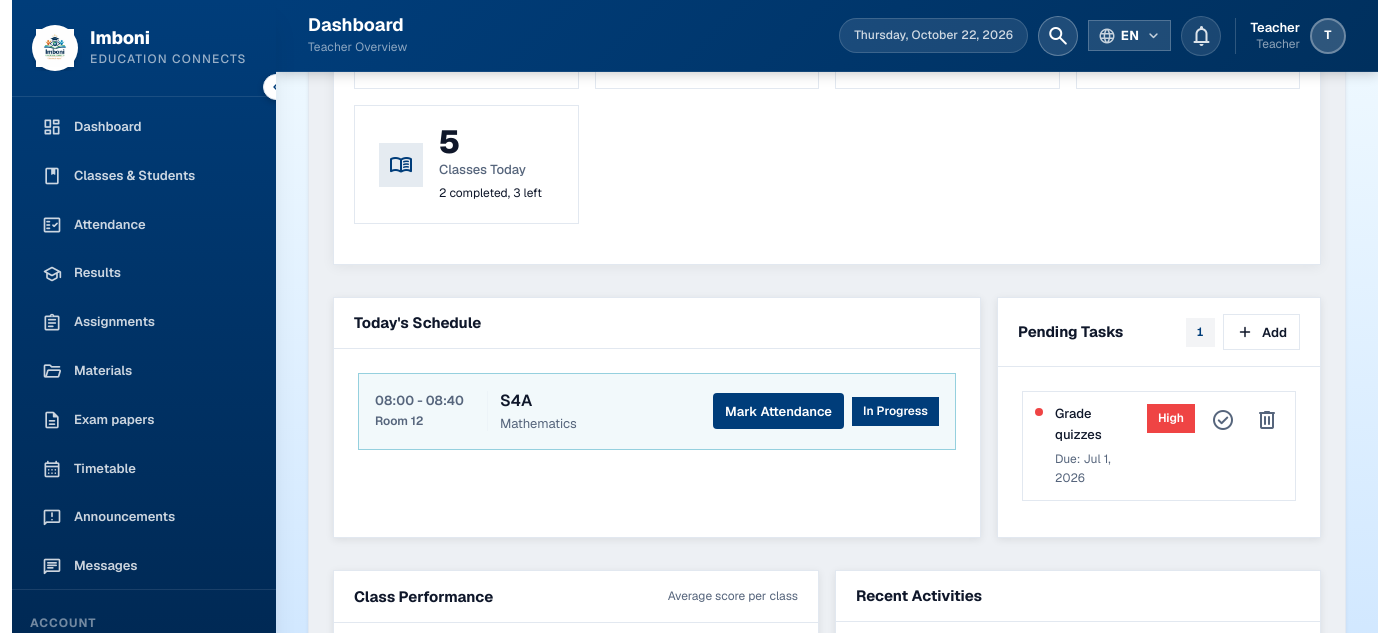
Test: TeacherDashboard › marks a task done and drops it from the pending list
(page scrolled)
Expected: the text "Grade quizzes" is shown, [1055,405,1102,443]
What coordinates should you click on to do the following:
click the button named "Mark task as done"
I would click on:
 (1223, 420)
Its box is [1207,404,1239,436].
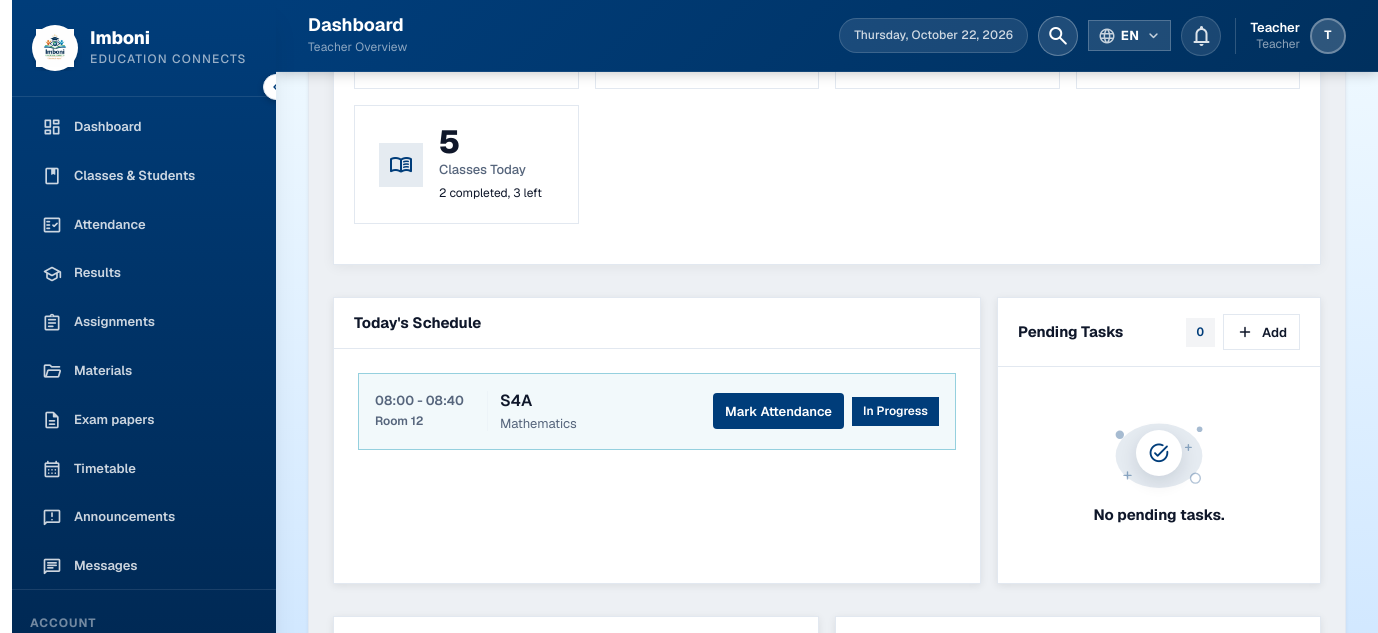
Result: the text "Grade quizzes" is gone
